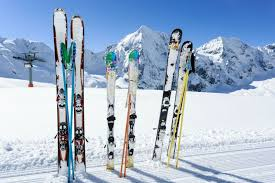skis: (47, 7, 88, 183), (150, 27, 195, 171), (103, 50, 142, 170)
